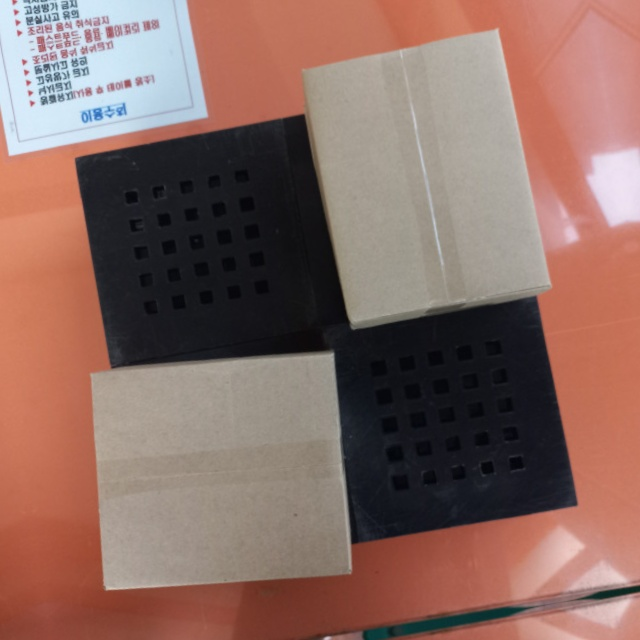box: (300, 27, 551, 329), (87, 348, 355, 596)
